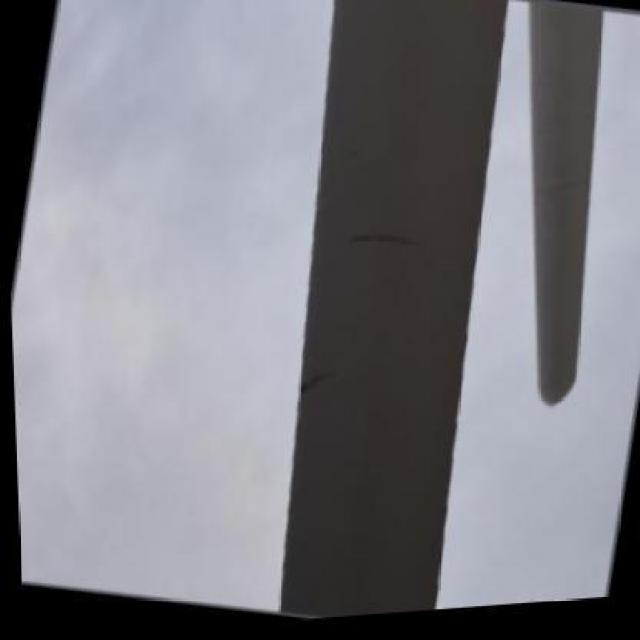Crack: (345, 222, 423, 264), (290, 357, 333, 412)
